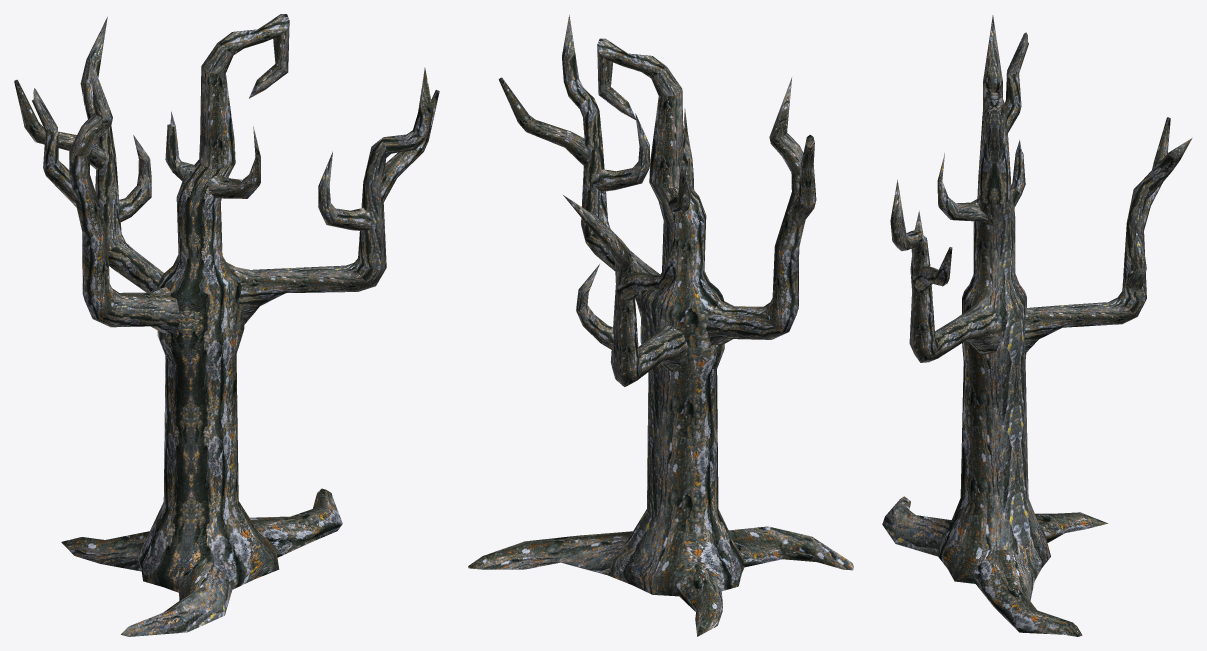
Rendered from Tree_Dry.FBX.
The picture shows the model from 3 angles, left to right: view 1: azimuth 30°, elevation 25°; view 2: azimuth 150°, elevation 25°; view 3: azimuth 270°, elevation 25°; orthographic projection. The views are drawn at different scales.
Parts seen in each view (by area): view 1: Cylinder001; view 2: Cylinder001; view 3: Cylinder001.
Part boxes in pixels (x1,y1,x2,y2): Cylinder001: (14, 14, 439, 636); Cylinder001: (468, 15, 853, 636); Cylinder001: (882, 15, 1192, 636).
Bounding box in the file's own units: 39.01 × 56.08 × 31.43.
